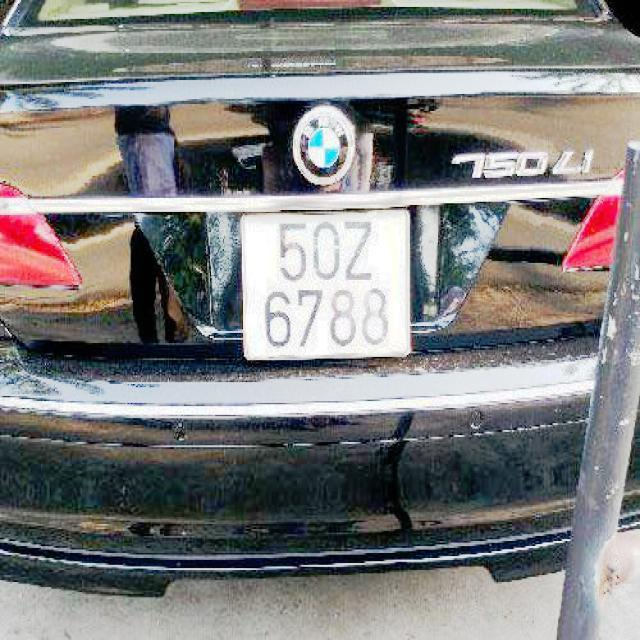license_plate: (241, 211, 412, 360)
